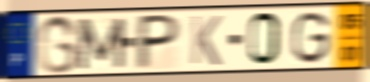0: (247, 10, 281, 68)
G: (35, 13, 80, 76), (290, 9, 333, 66)
K: (189, 14, 224, 68)
M: (75, 16, 128, 72)
P: (133, 13, 183, 72)
